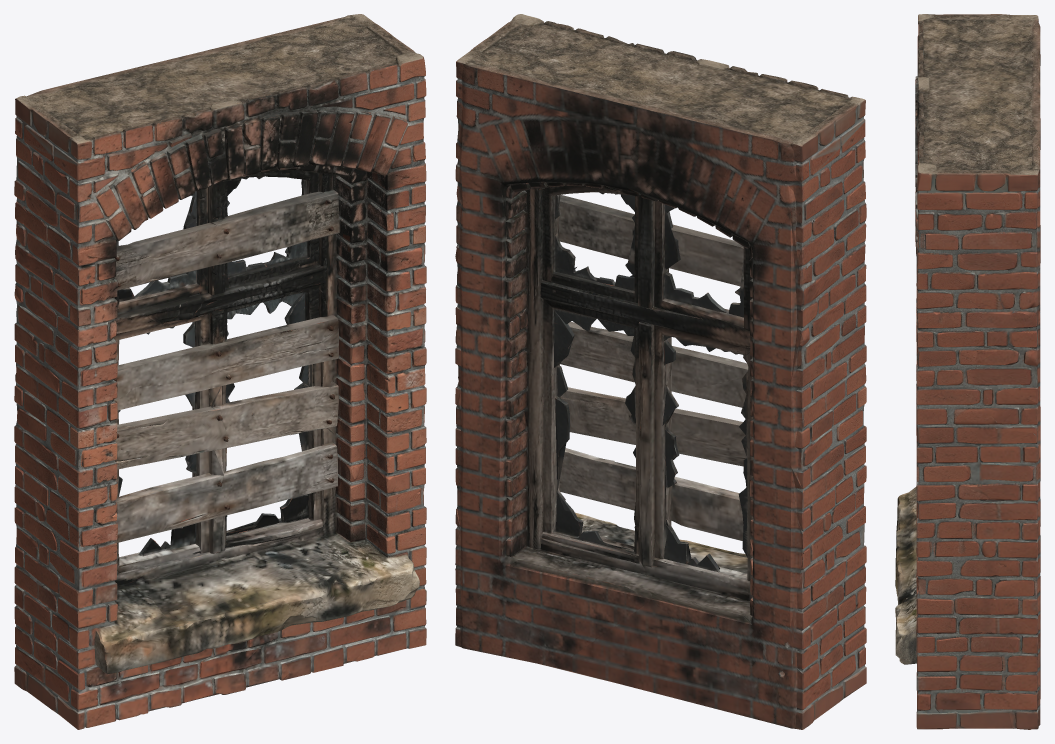
The model's file is familok_window_boarded.glb.
3 views of the same model, side by side, from view 1: azimuth 30°, elevation 25°; view 2: azimuth 150°, elevation 25°; view 3: azimuth 270°, elevation 25° (orthographic). The views are drawn at different scales.
Size of the model in its own units: 1.18 by 1.9 by 0.4491.
1 material, 1 textured.
